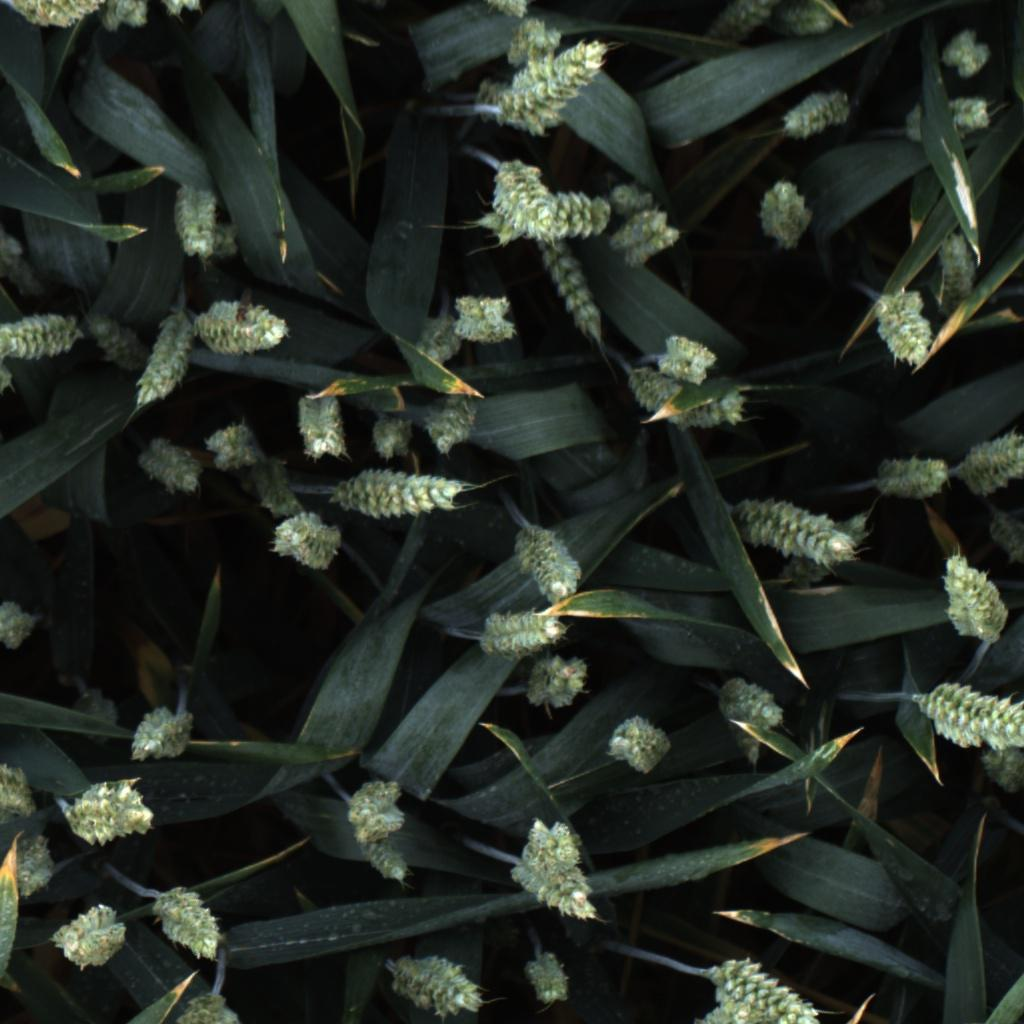0-0: (491, 34, 614, 122), (703, 950, 825, 1024), (328, 465, 469, 528), (475, 186, 609, 252), (723, 495, 851, 564), (534, 233, 610, 347), (771, 508, 873, 590), (909, 682, 1024, 754), (483, 153, 564, 249), (937, 553, 1016, 649), (382, 948, 485, 1021), (132, 306, 201, 411), (62, 775, 156, 849), (469, 77, 572, 144), (512, 520, 591, 602), (195, 295, 293, 359), (508, 861, 599, 925), (901, 93, 996, 152), (154, 885, 225, 963), (49, 906, 127, 976), (267, 510, 347, 578), (603, 204, 683, 272), (870, 289, 937, 368), (956, 423, 1024, 500), (605, 709, 678, 779), (755, 177, 819, 256), (0, 306, 89, 361), (480, 606, 572, 658), (165, 182, 222, 265), (137, 434, 207, 501), (128, 704, 199, 769), (624, 360, 687, 433), (519, 657, 596, 713), (248, 455, 307, 528), (512, 816, 586, 874), (516, 939, 575, 1010), (876, 449, 952, 504), (651, 326, 720, 386), (717, 674, 788, 731), (288, 391, 347, 459), (669, 389, 757, 434), (499, 17, 568, 74), (344, 779, 411, 837), (780, 88, 853, 141), (454, 293, 522, 347), (88, 305, 144, 370), (67, 685, 128, 744), (420, 398, 478, 460), (933, 227, 982, 300), (200, 416, 265, 471), (603, 176, 663, 235), (358, 829, 417, 886), (942, 24, 995, 84), (11, 836, 59, 901), (699, 0, 783, 36), (415, 308, 465, 366), (780, 0, 842, 46), (13, 0, 110, 29), (165, 991, 246, 1024), (982, 509, 1024, 572), (367, 411, 414, 467), (975, 745, 1024, 798), (0, 752, 36, 821), (0, 215, 34, 288), (0, 599, 44, 652), (101, 0, 152, 40), (733, 720, 767, 771), (206, 222, 244, 261), (685, 1005, 761, 1024), (475, 0, 546, 19), (157, 0, 209, 22), (0, 345, 17, 401)
